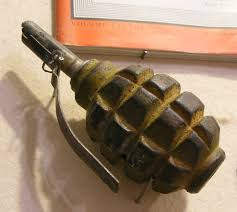bomb: (22, 21, 224, 196)
